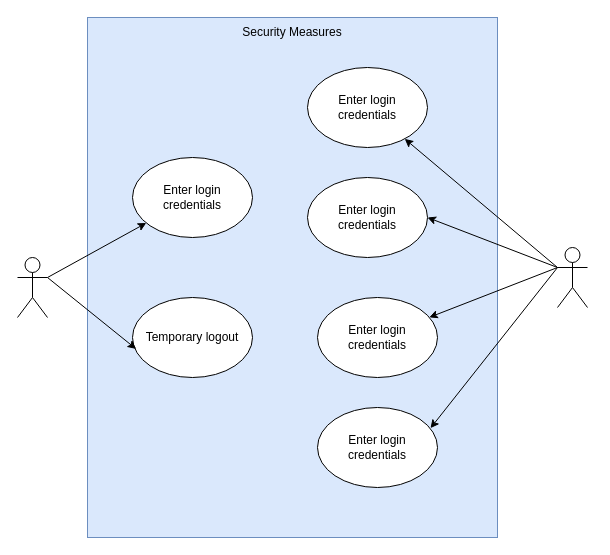
Some shapes in this 610 by 555 pixel diagram are drawn without their labels. The shapes that lost their labels are listed below. From the top down, each one's box as (x1, y1, x2, y2) in pixels, then its label:
(16, 256, 48, 318): User
(556, 246, 588, 308): System
